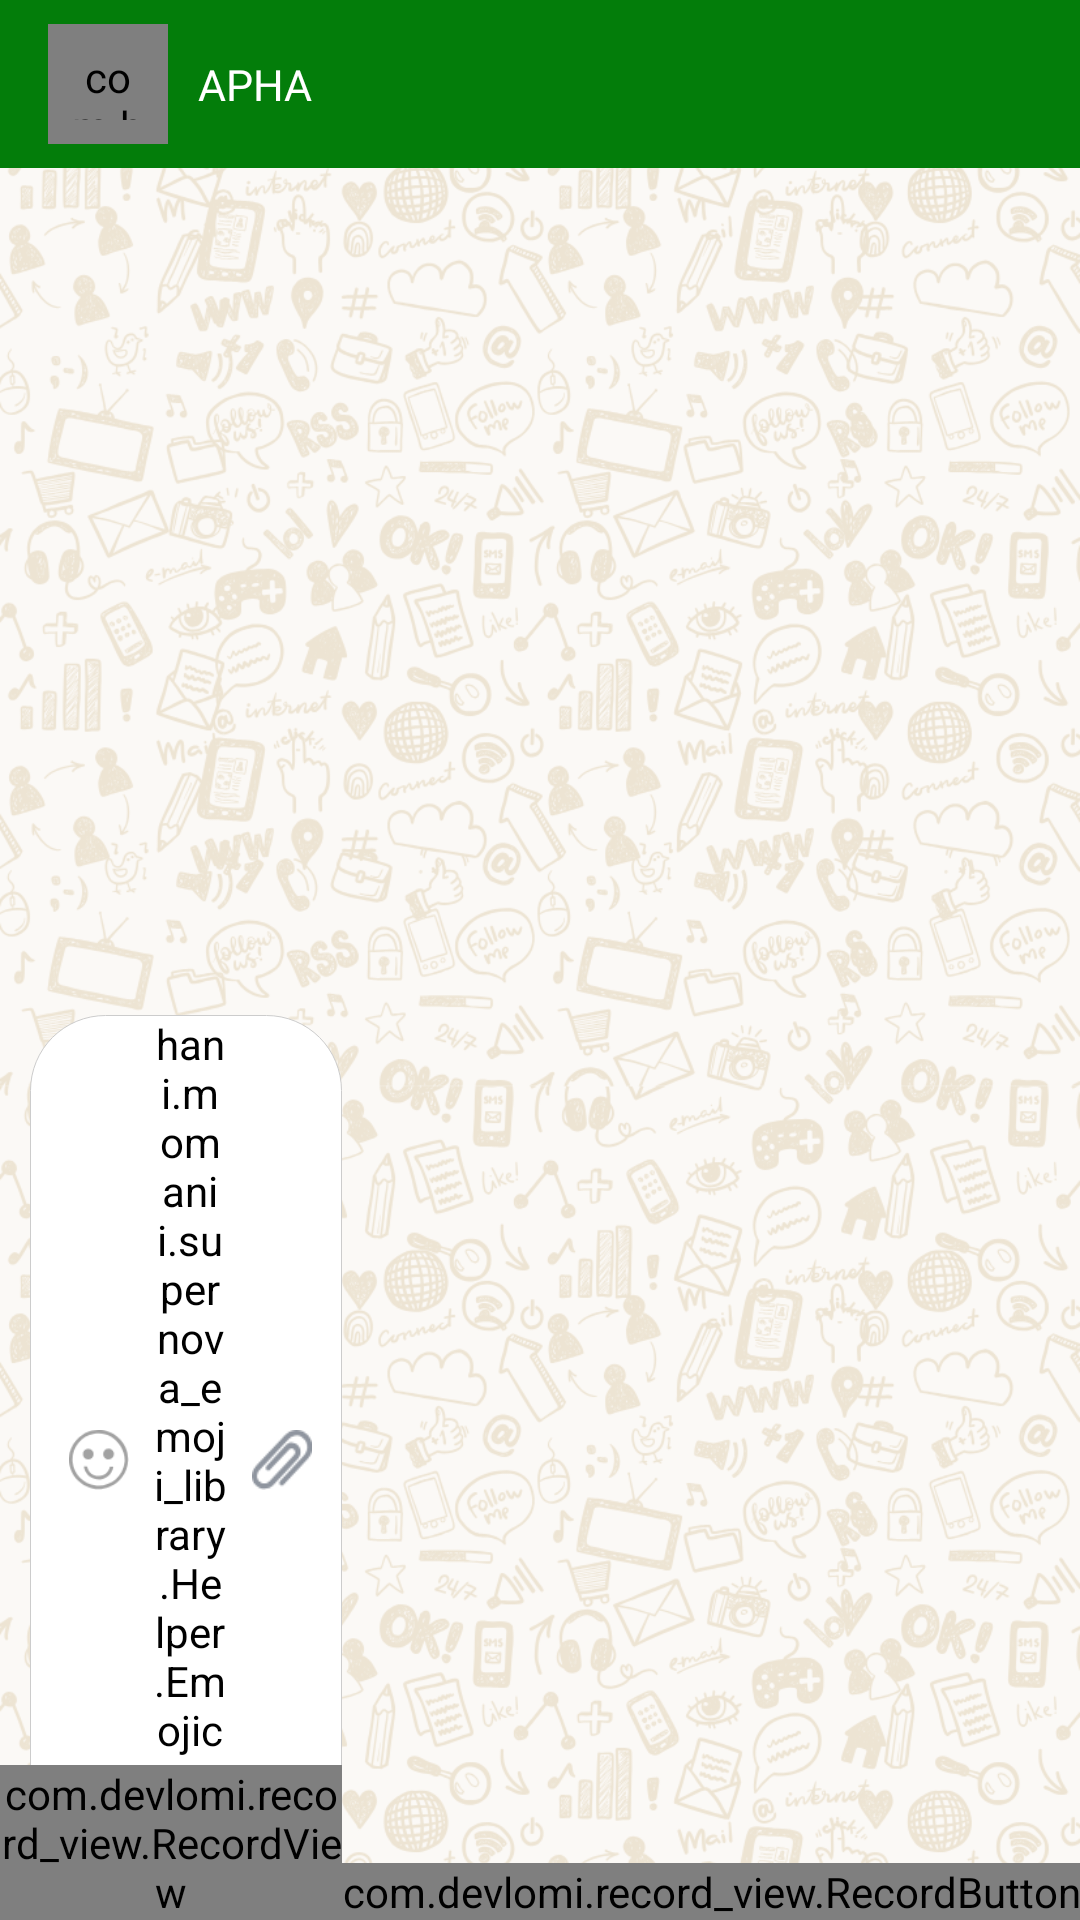

Locate icon controls on the screen. Image size 1080 x 1920, boxes as (x1, y1, x2, y2).
attach: (252, 1430, 312, 1490)
